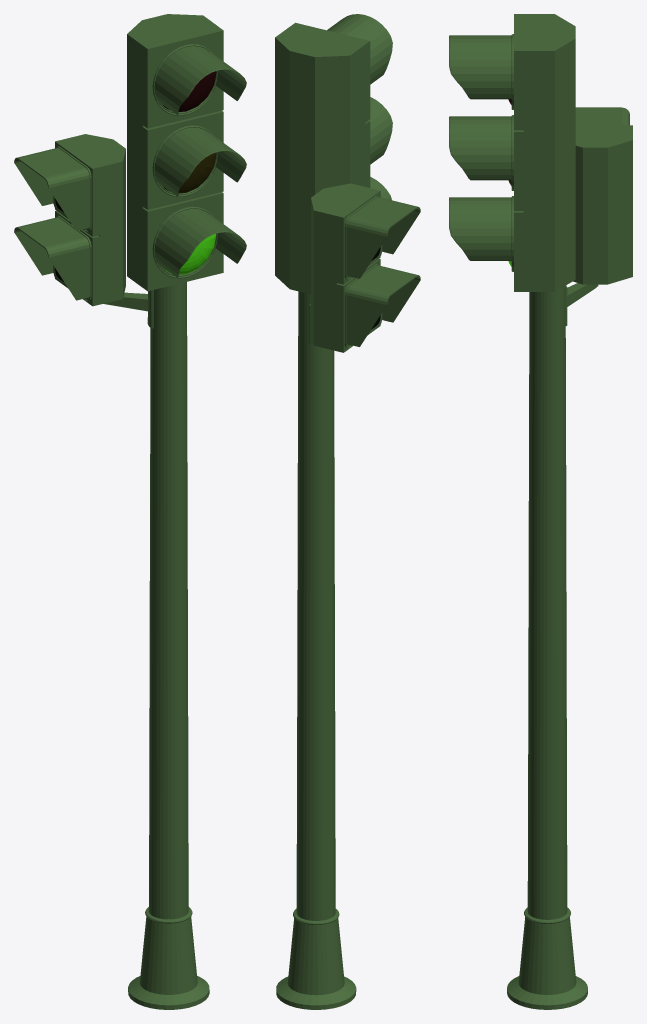
The model's file is semaforo.obj.
3 renders of one model, left to right at view 1: azimuth 30°, elevation 25°; view 2: azimuth 150°, elevation 25°; view 3: azimuth 270°, elevation 25°, orthographic.
Parts seen in each view (by area): view 1: base_Cylinder, big_box_Cube, circle_cover_Sphere.002, box_cover_Cube.010, little_box_Cube.004, lights_Sphere.008, circles_Sphere.009, branch_Cylinder.001, borderbox_Cube.009; view 2: base_Cylinder, big_box_Cube, box_cover_Cube.010, little_box_Cube.004, circle_cover_Sphere.002, borderbox_Cube.009; view 3: base_Cylinder, big_box_Cube, circle_cover_Sphere.002, little_box_Cube.004, box_cover_Cube.010, circles_Sphere.009, branch_Cylinder.001.
Part boxes in pixels (box(x1,y1,x2,y2)): base_Cylinder: box(128, 282, 209, 1009); big_box_Cube: box(127, 14, 223, 291); circle_cover_Sphere.002: box(154, 46, 246, 278); box_cover_Cube.010: box(14, 147, 89, 300); little_box_Cube.004: box(55, 134, 125, 306); lights_Sphere.008: box(161, 71, 216, 274); circles_Sphere.009: box(152, 44, 217, 278); branch_Cylinder.001: box(103, 290, 153, 328); borderbox_Cube.009: box(53, 146, 91, 301); base_Cylinder: box(276, 291, 356, 1009); big_box_Cube: box(275, 22, 370, 294); box_cover_Cube.010: box(346, 197, 420, 346); little_box_Cube.004: box(311, 183, 380, 352); circle_cover_Sphere.002: box(327, 14, 392, 200); borderbox_Cube.009: box(344, 195, 382, 348); base_Cylinder: box(507, 286, 587, 1009); big_box_Cube: box(514, 14, 575, 291); circle_cover_Sphere.002: box(449, 35, 511, 260); little_box_Cube.004: box(573, 125, 632, 284); box_cover_Cube.010: box(575, 107, 629, 125); circles_Sphere.009: box(511, 34, 513, 271); branch_Cylinder.001: box(565, 283, 598, 325).
Bounding box in the file's own units: 0.8472 × 5.16 × 0.8954.
